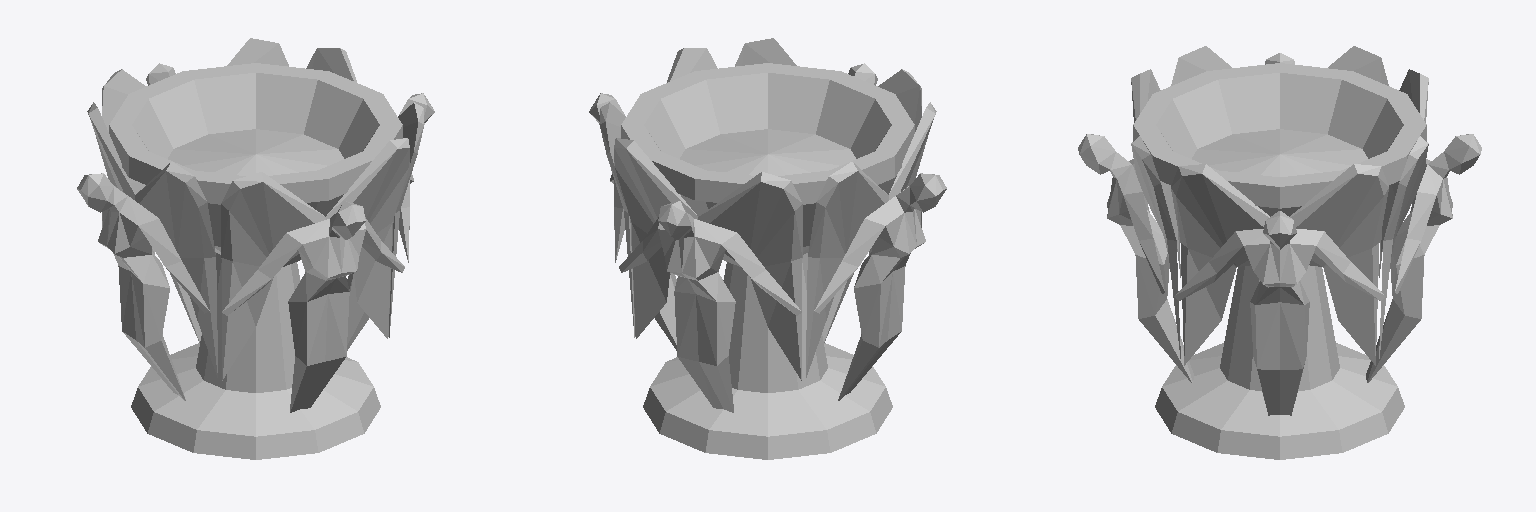
File: brazier.obj
3 renders of one model, left to right at view 1: azimuth 30°, elevation 25°; view 2: azimuth 150°, elevation 25°; view 3: azimuth 270°, elevation 25°, orthographic.
Parts seen in each view (by area): view 1: heavenTorch:Mesh; view 2: heavenTorch:Mesh; view 3: heavenTorch:Mesh.
Boxes of the visible parts, <box> form: heavenTorch:Mesh: <box>77,38,434,459</box>; heavenTorch:Mesh: <box>589,38,946,459</box>; heavenTorch:Mesh: <box>1078,46,1481,459</box>.
Bounding box in the file's own units: 1.37 × 1.13 × 1.37.